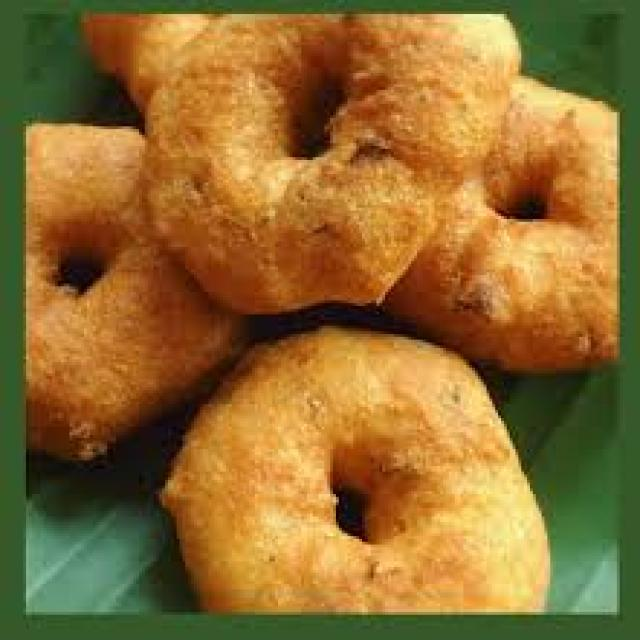MEDU VADA: (23, 10, 625, 618)
